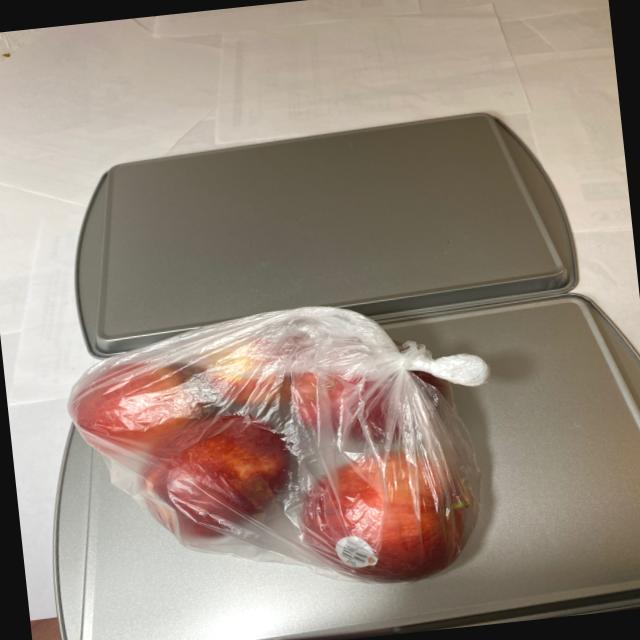apple: (64, 308, 488, 618)
